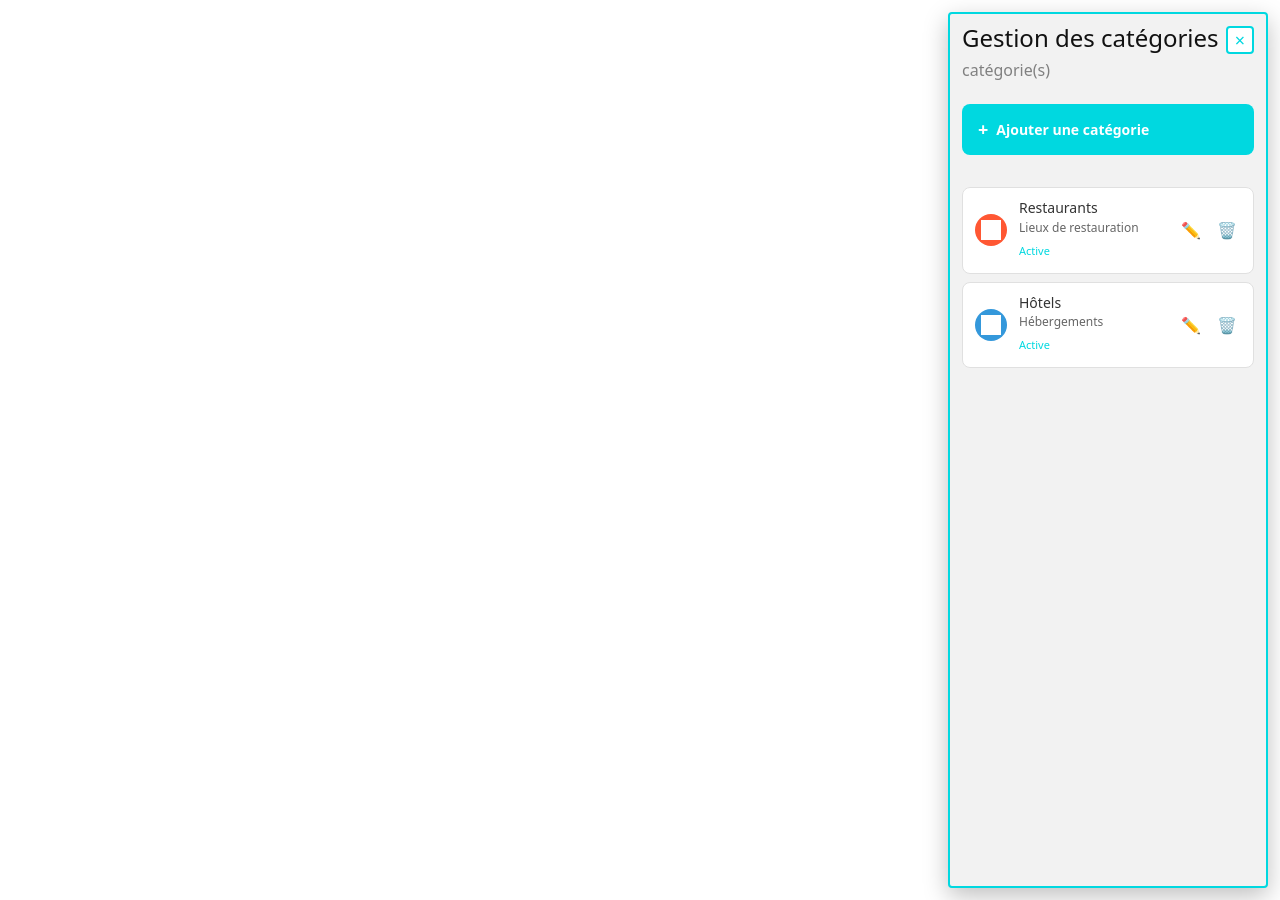
Scenario: CategorieEditPanel.vue › retourne à la liste au clic sur le bouton retour
The width and height of the screenshot is (1280, 900).
# Aller au formulaire
Click the button with class "btn-add-category" at (1108, 129), box [962, 104, 1254, 155]
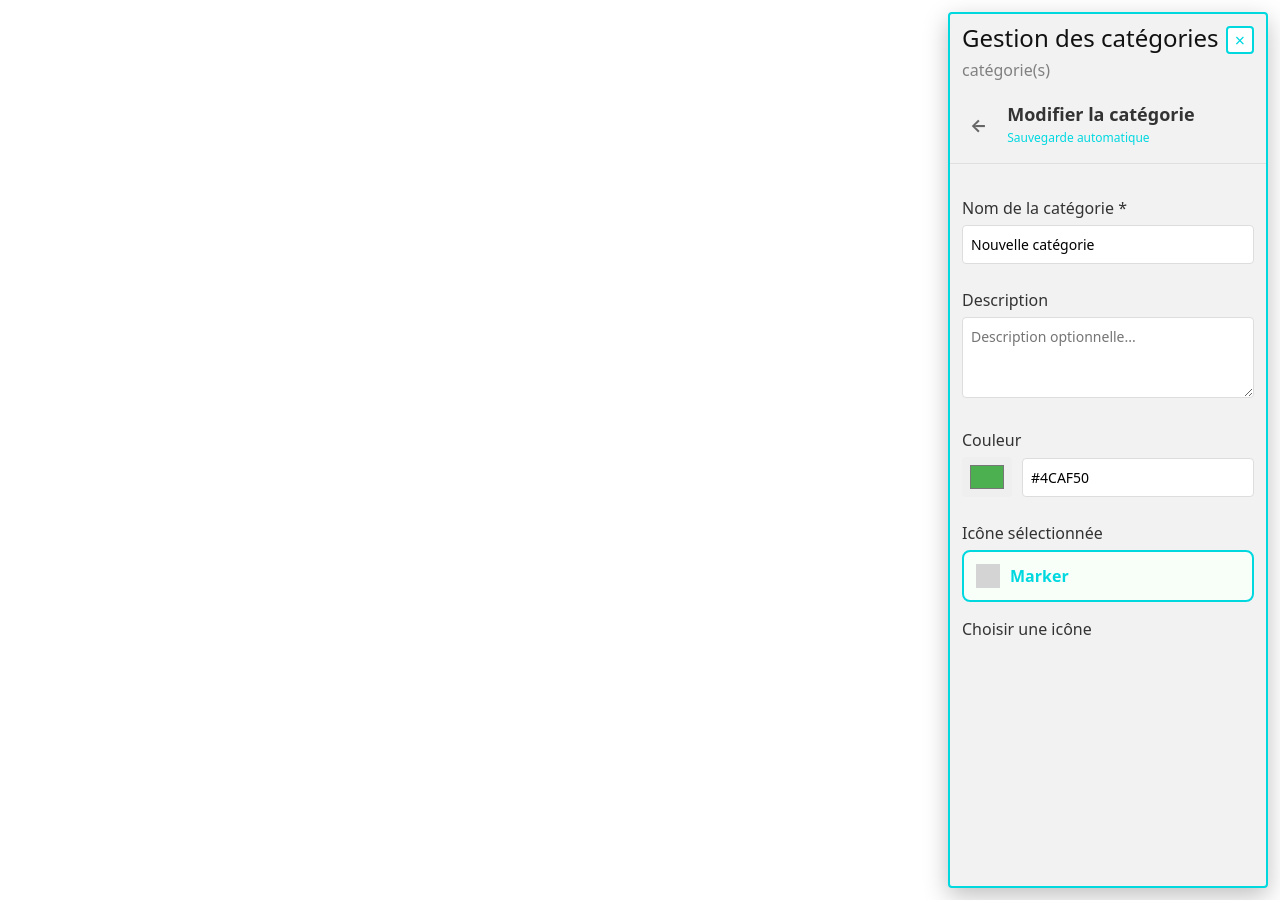
Expected: the element with class "create-form" is shown, [950, 184, 1266, 658]
# Retourner à la liste
Click the button with class "back-button" at (979, 126), box [962, 104, 995, 147]
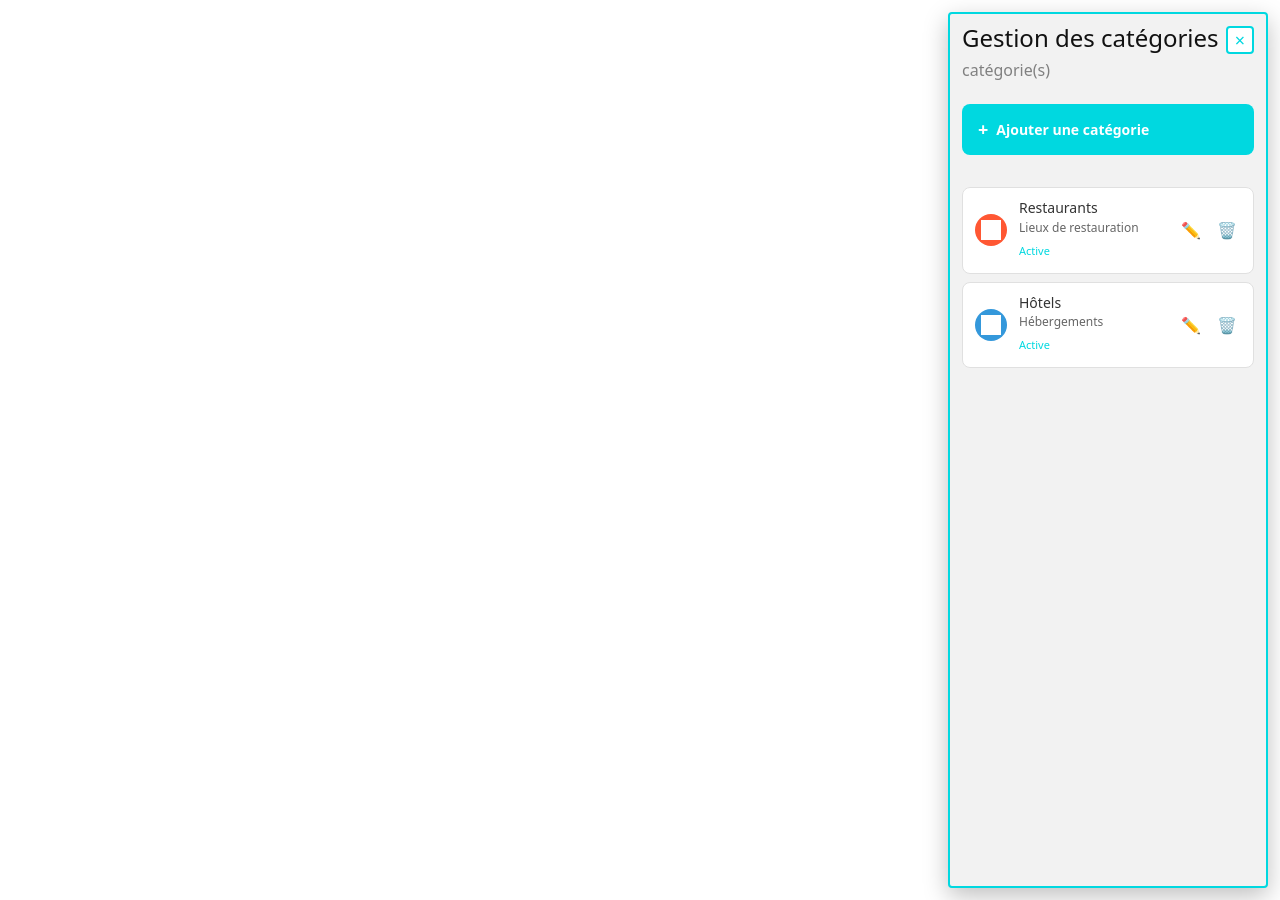
Expected: the element with class "categories-list" is shown, [950, 175, 1266, 388]
